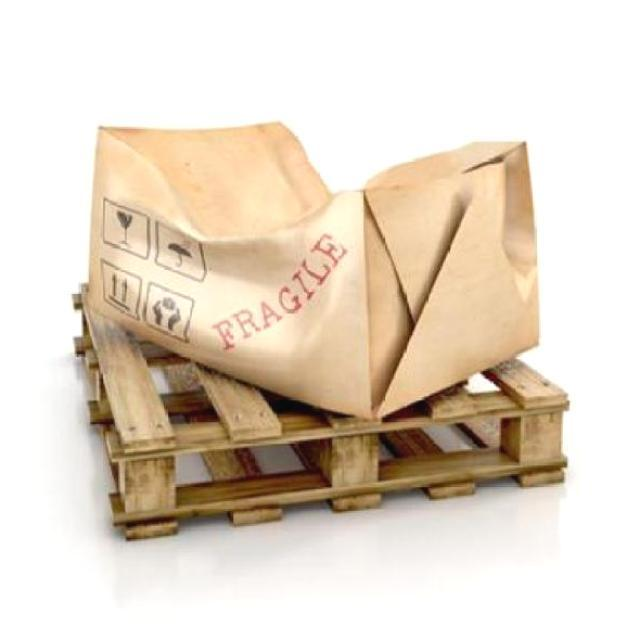crushed: (78, 122, 540, 415)
